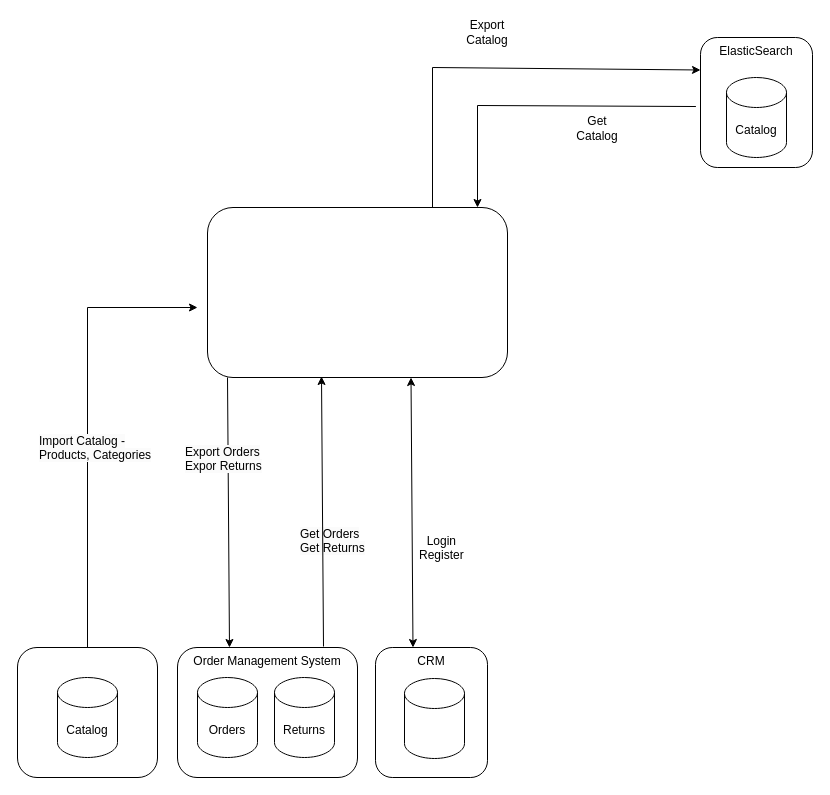
Image size: 830x795. Some labels were removed from this diagram. The shapes that lost their labels are listed below. From the top down, each one's box as (x1, y1, x2, y2) in pixels, then its label:
(206, 206, 508, 378): eCommerce
(16, 646, 158, 778): ERP
(404, 678, 464, 758): Customers
